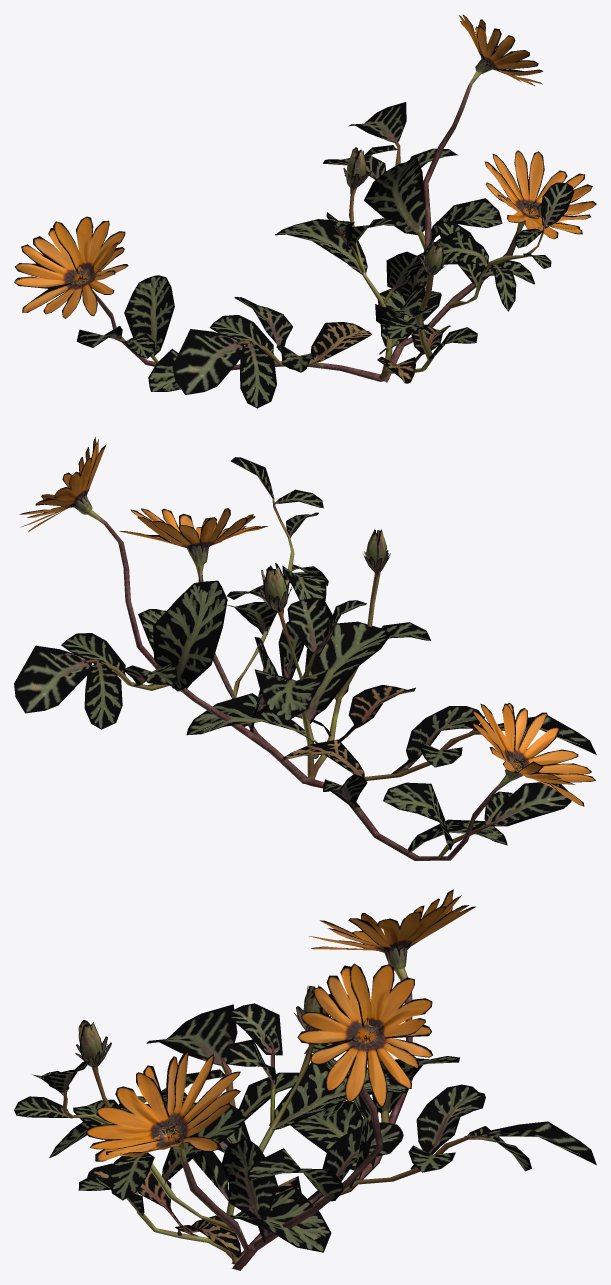
The model's file is flower_ursinia_2.gltf.
3 renders of one model, top to bottom at view 1: azimuth 30°, elevation 25°; view 2: azimuth 150°, elevation 25°; view 3: azimuth 270°, elevation 25°, orthographic. The views are drawn at different scales.
Visible parts, largest first — view 1: flower_ursinia_c_LOD0; view 2: flower_ursinia_c_LOD0; view 3: flower_ursinia_c_LOD0.
Part boxes in pixels (bbox=[...]): flower_ursinia_c_LOD0: bbox=[14, 14, 596, 408]; flower_ursinia_c_LOD0: bbox=[14, 437, 596, 860]; flower_ursinia_c_LOD0: bbox=[14, 889, 596, 1270].
Size of the model in its own units: 0.2609 by 0.1494 by 0.1986.
Materials: 1 (1 with a texture image).
